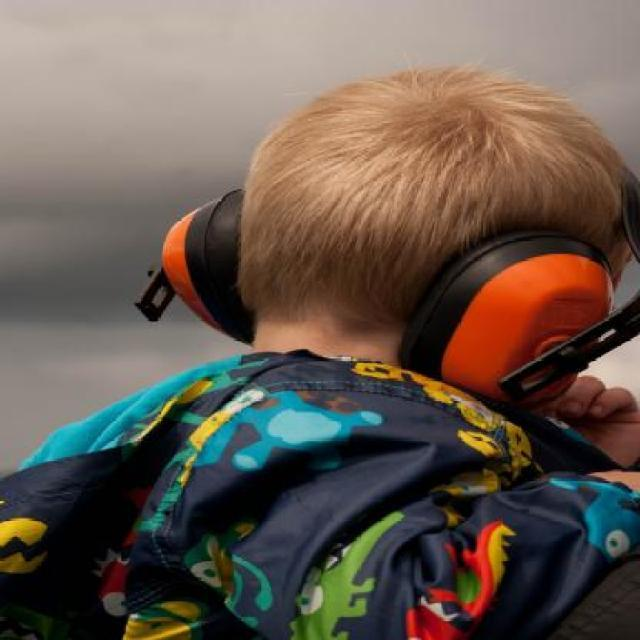earphone: (124, 98, 638, 415)
